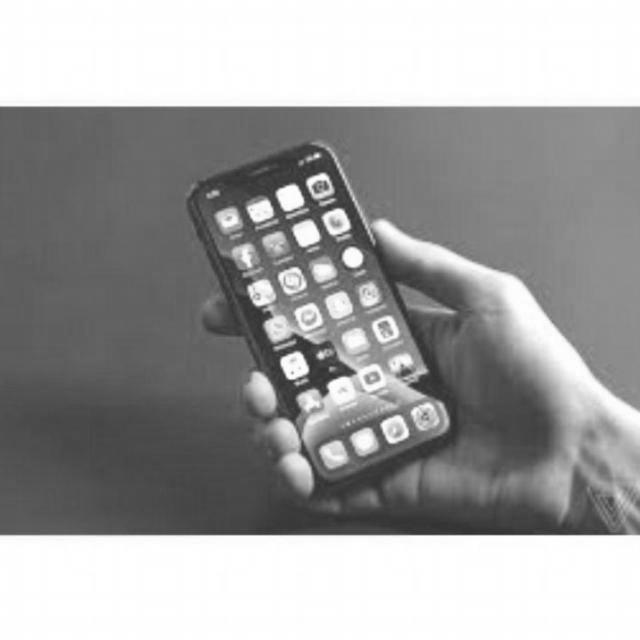fake: (180, 135, 464, 479)
